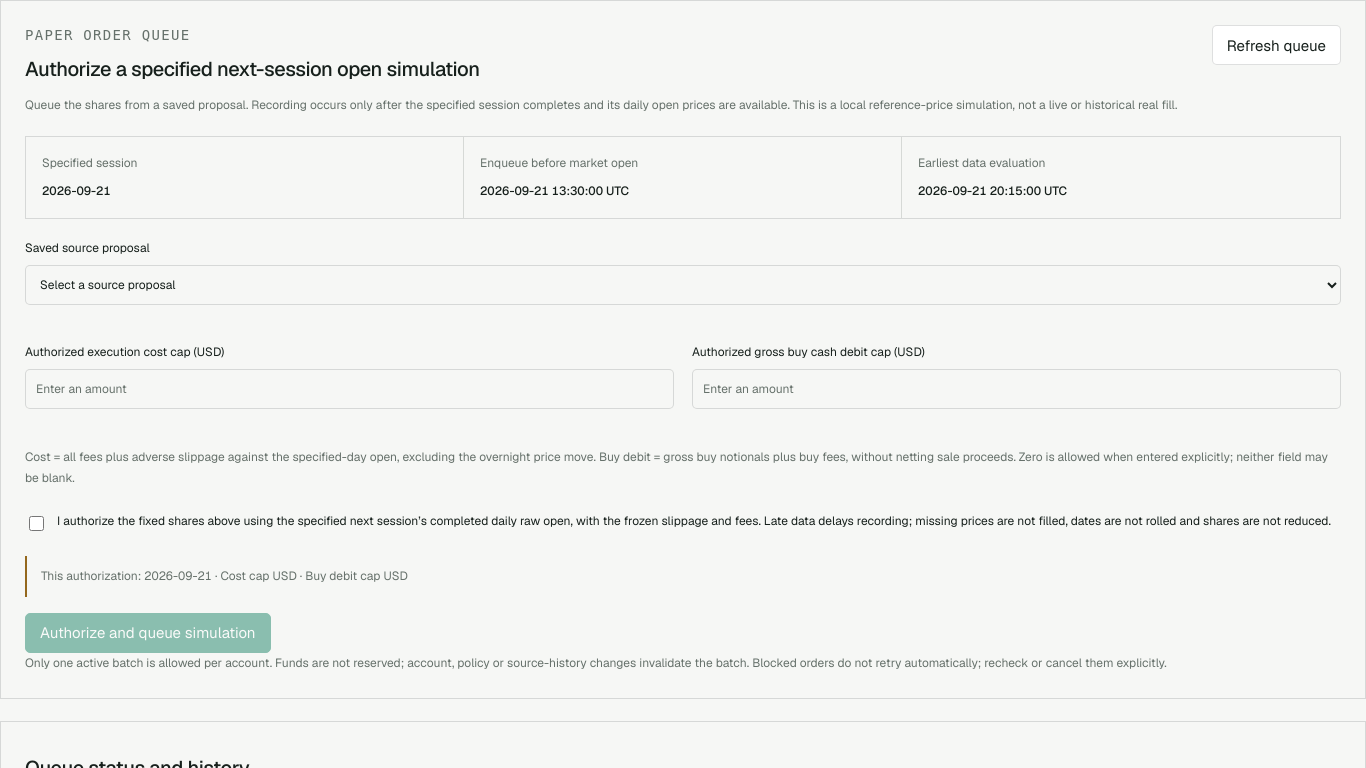
it: next-open paper queue › requires user-entered caps and explicit consent before queueing immutable shares
This screenshot has width=1366, height=768.
Select "synthetic-sour · 1 trades · Eligible" in the dropdown labelled "Saved source proposal" at (683, 285), box [25,265,1341,305]
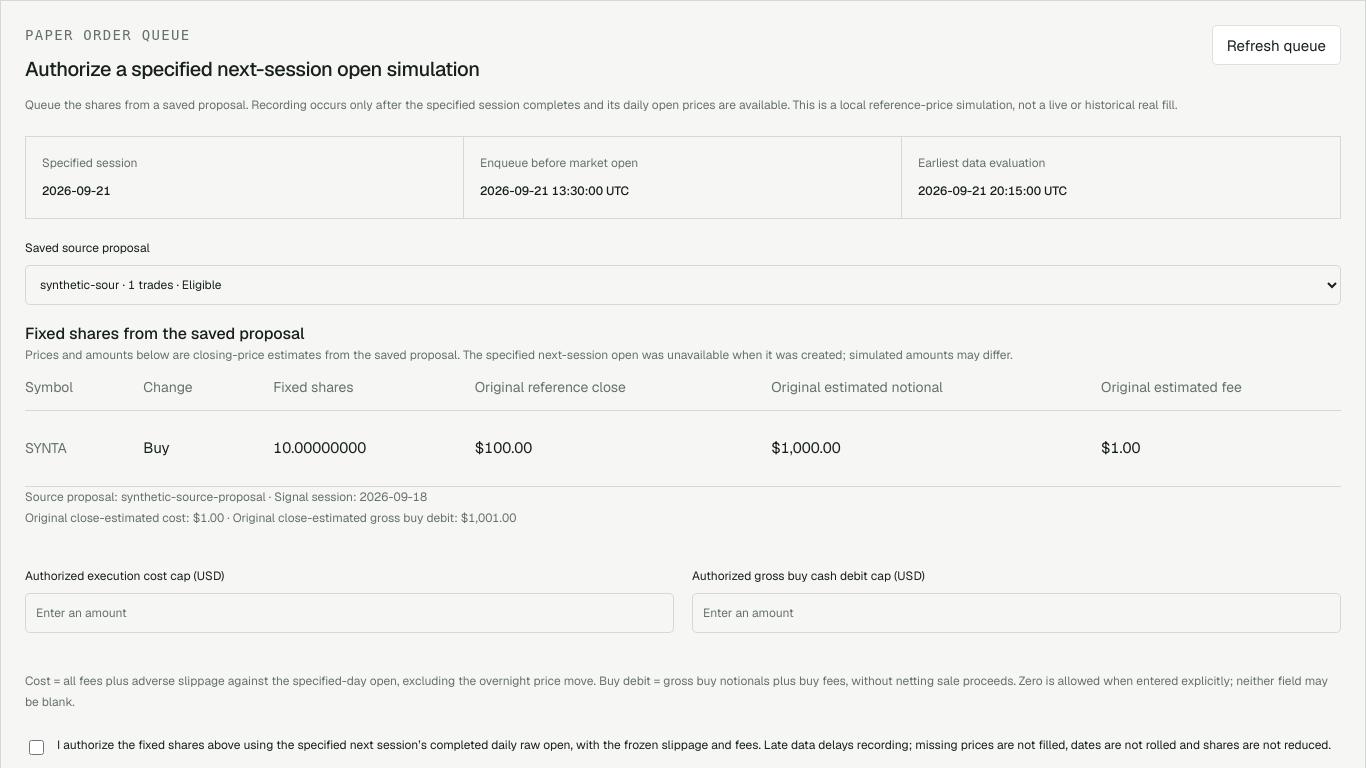
Check: the field labelled "Authorized execution cost cap (USD)" is empty, box [25,593,674,633]
Check: the field labelled "Authorized gross buy cash debit cap (USD)" is empty, box [692,593,1341,633]
Select "synthetic-sour · 1 trades · Eligible" in the dropdown labelled "Saved source proposal" at (683, 285), box [25,265,1341,305]
Type "20" into the field labelled "Authorized execution cost cap (USD)" at (350, 613), box [25,593,674,633]
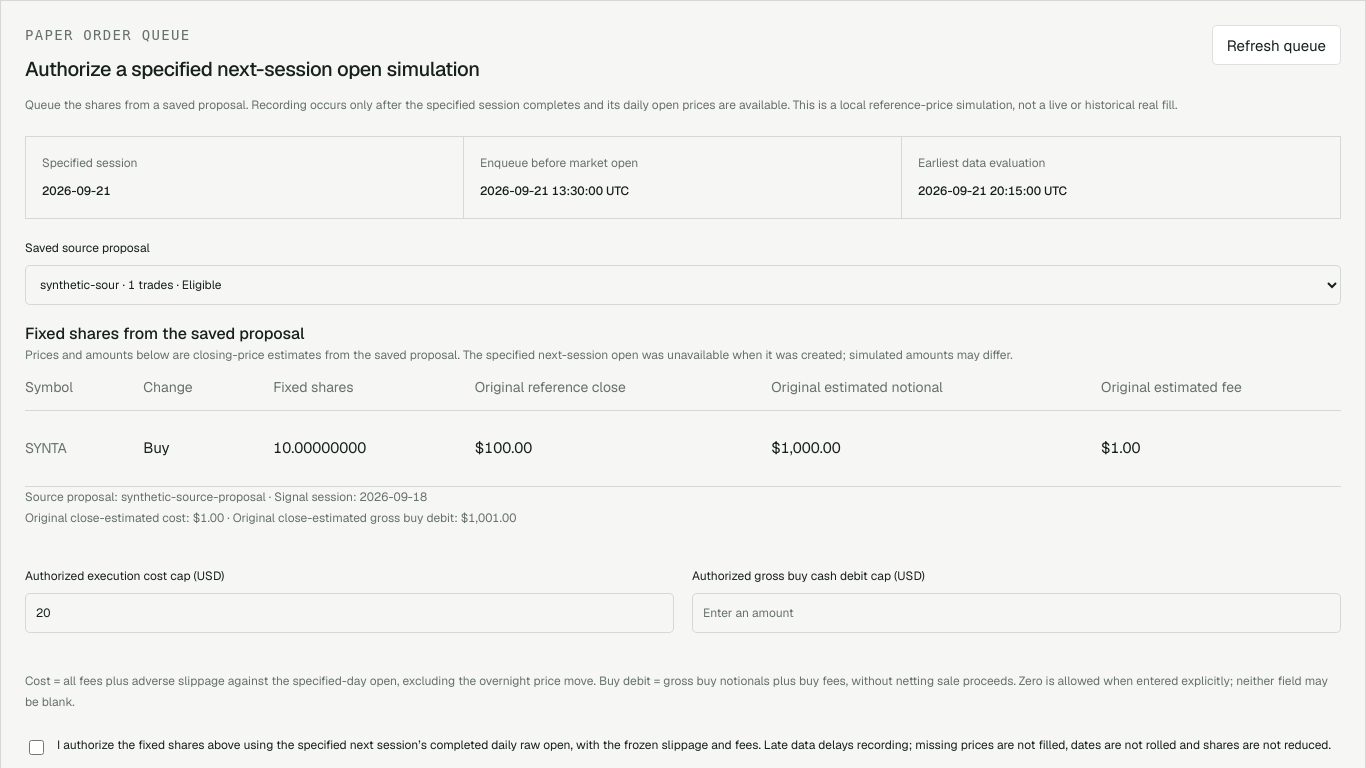
Type "1500" into the field labelled "Authorized gross buy cash debit cap (USD)" at (1016, 613), box [692,593,1341,633]
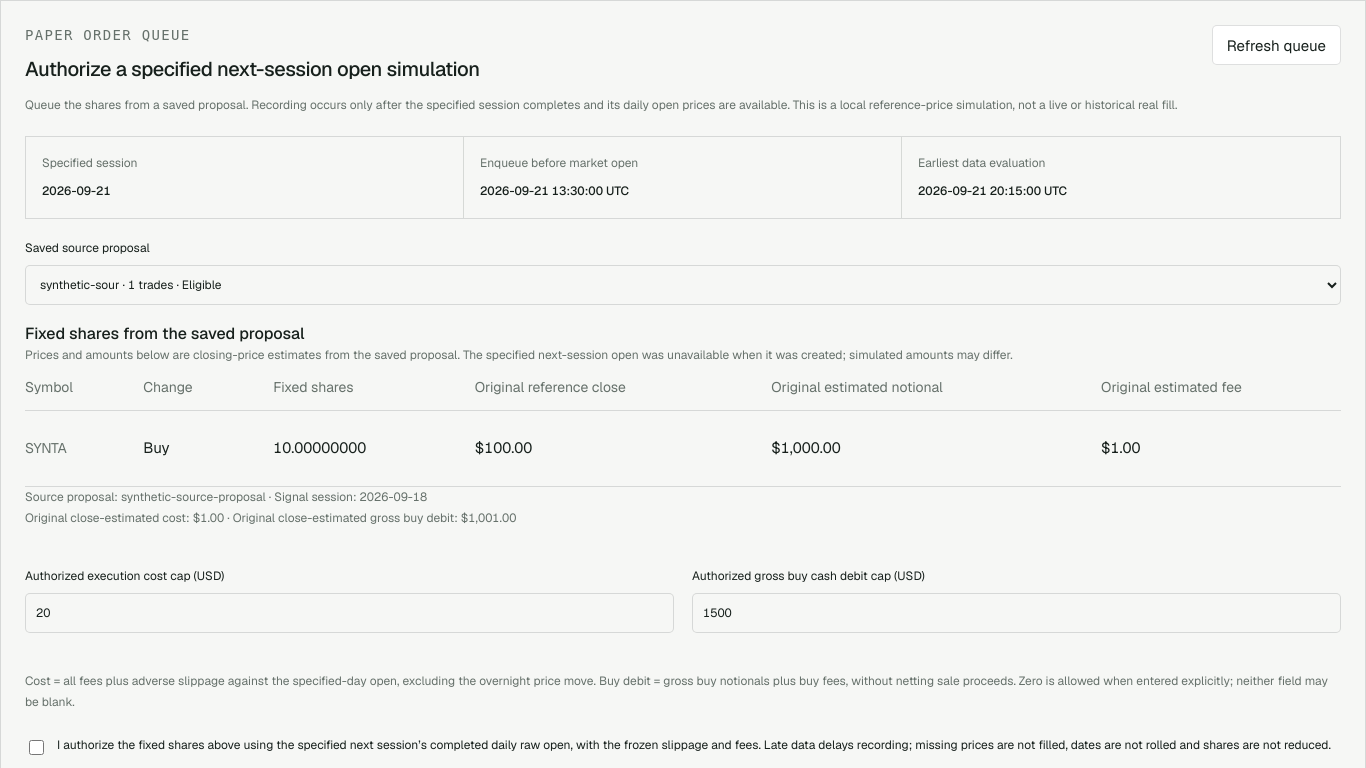
Click the checkbox at (36, 747), box [29,740,44,755]
(page scrolled)
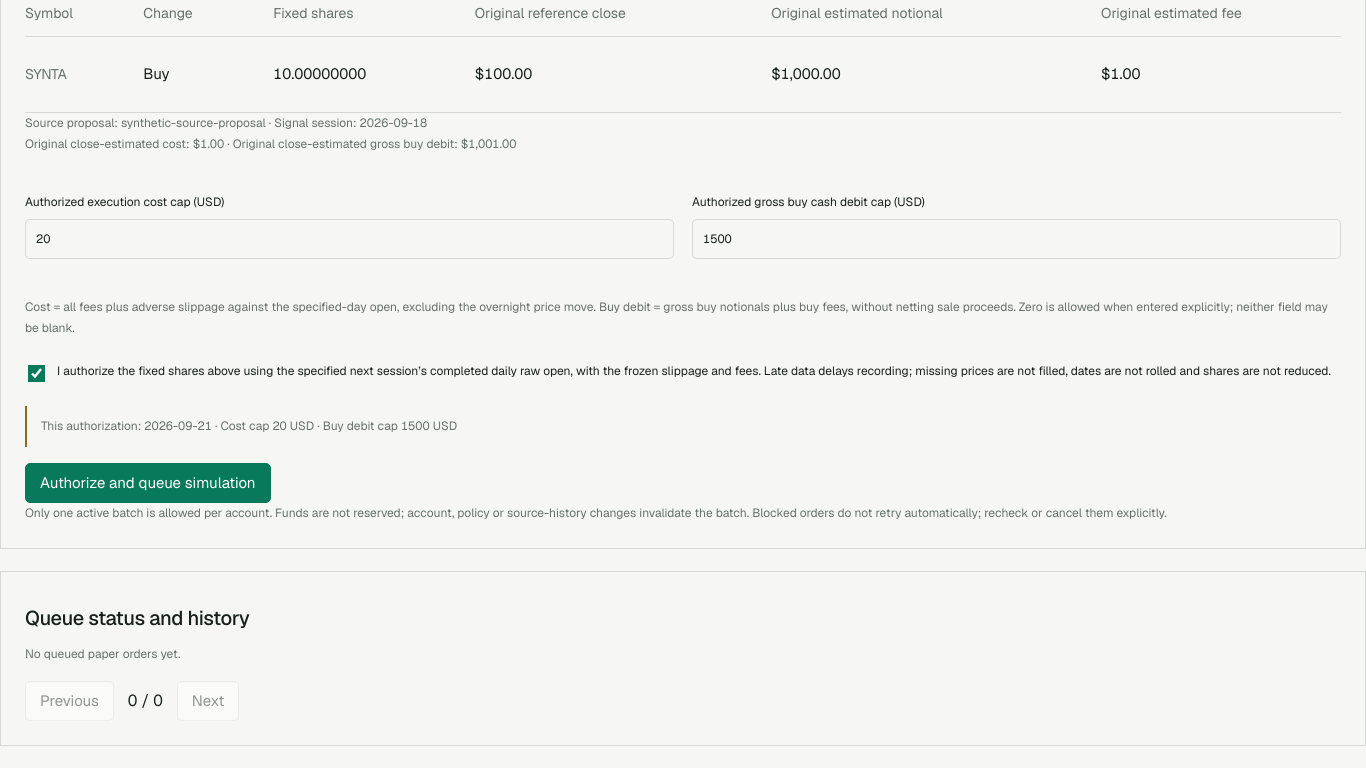
Click the button "Authorize and queue simulation" at (148, 483), box [25,463,271,503]
(page scrolled)
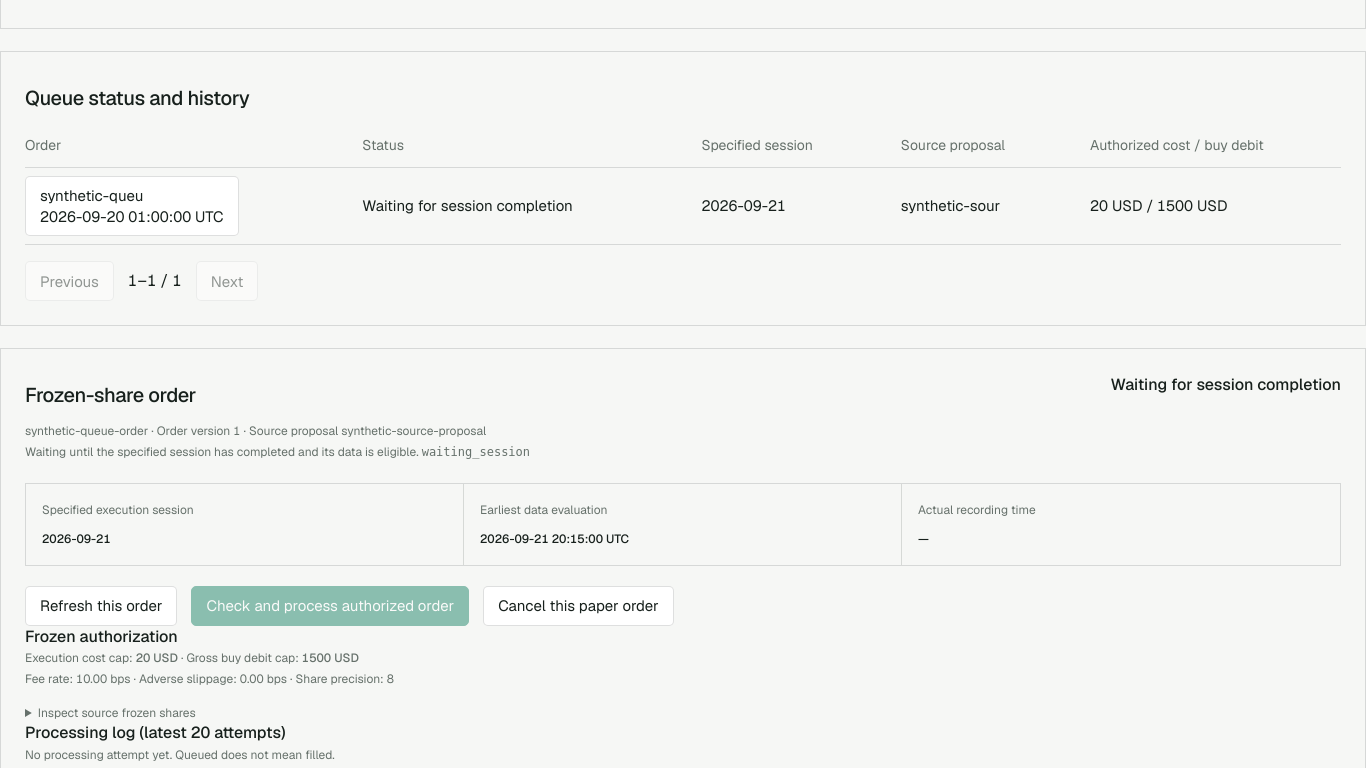
Check: the text "No processing attempt yet. Queued does not mean filled." is shown, box [25,747,335,763]
